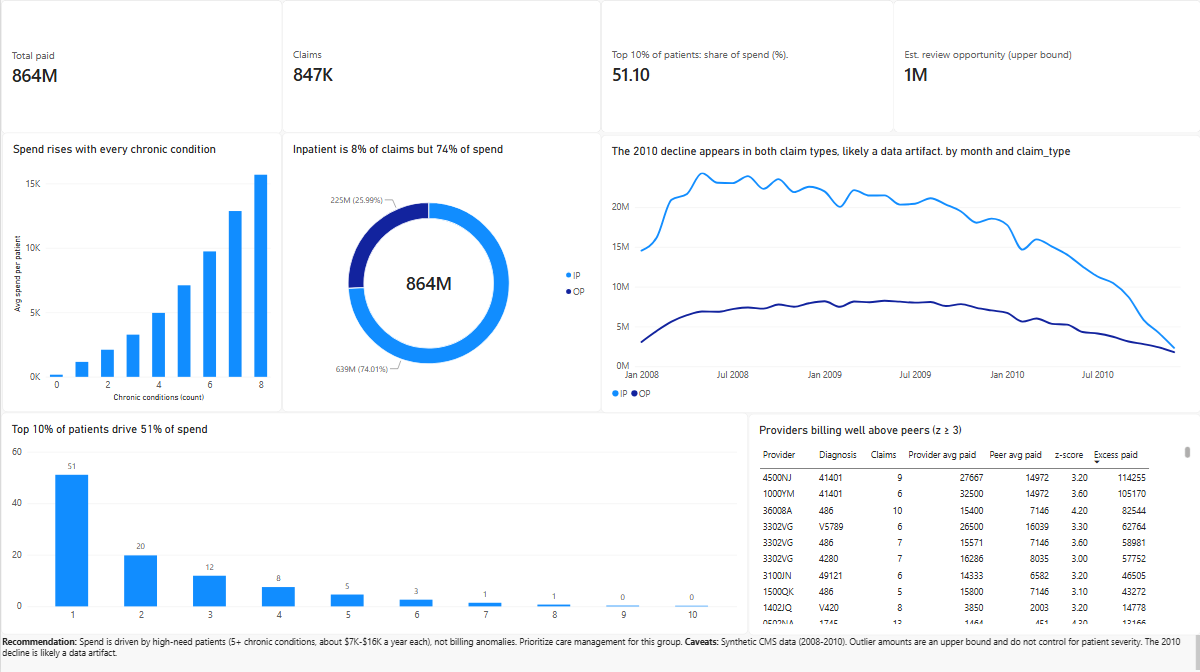

The page's visual inventory and layout, read from the dashboard file:
{"tool":"powerbi","page":{"name":"Page 1","canvas":[1920,1080],"ordinal":0},"visuals":[{"type":"clusteredColumnChart","title":"Top 10% of patients drive 51% of spend","fields":{"Category":["spend_deciles.decile"],"Y":["Sum(spend_deciles.pct_of_total)"]},"box":[0,660,1195,355],"z":0},{"type":"cardVisual","fields":{"Data":["Sum(spend_deciles.pct_of_total)"]},"box":[960,0,468,212],"z":1000},{"type":"cardVisual","fields":{"Data":["Sum(claim_types.total_paid)"]},"box":[0,0,450,214],"z":2000},{"type":"cardVisual","fields":{"Data":["Sum(claim_types.claims)"]},"box":[450,0,510,212.5],"z":3000},{"type":"columnChart","title":"Spend rises with every chronic condition","fields":{"Category":["chronic_conditions.n_cond"],"Y":["Sum(chronic_conditions.avg_spend)"]},"box":[2.9,212.9,447.1,447.1],"z":4000},{"type":"donutChart","title":"Inpatient is 8% of claims but 74% of spend","fields":{"Category":["claim_types.claim_type"],"Y":["Sum(claim_types.total_paid)"]},"box":[450,212.9,510,447.1],"z":5000},{"type":"lineChart","fields":{"Category":["monthly_trend.month"],"Series":["monthly_trend.claim_type"],"Y":["Sum(monthly_trend.total_paid)"]},"box":[960,215,960,445],"z":6000},{"type":"tableEx","title":"Providers billing well above peers (z ≥ 3)","fields":{"Values":["provider_outliers.provider_id","provider_outliers.diagnosis","Sum(provider_outliers.claims)","provider_outliers.prov_avg","provider_outliers.peer_avg","provider_outliers.z","Sum(provider_outliers.excess_paid)"]},"box":[1196,662,724,354],"z":7000},{"type":"textbox","box":[2.5,1015,1917.5,65],"z":8000},{"type":"cardVisual","title":"Est. review opportunity (upper bound)","fields":{"Data":["Sum(provider_outliers.excess_paid)"]},"box":[1428,0,492,212],"z":9000}]}

Visuals, with their boxes in screenshot pixels (x1, y1, x2, y2), scaled from the page's 1920x1080 canvas onto the 1200x672 screenshot:
"Top 10% of patients drive 51% of spend" clusteredColumnChart: 0,411,747,632
cardVisual - Sum(spend_deciles.pct_of_total): 600,0,892,132
cardVisual - Sum(claim_types.total_paid): 0,0,281,133
cardVisual - Sum(claim_types.claims): 281,0,600,132
"Spend rises with every chronic condition" columnChart: 2,132,281,411
"Inpatient is 8% of claims but 74% of spend" donutChart: 281,132,600,411
lineChart - monthly_trend.month x monthly_trend.claim_type: 600,134,1199,411
"Providers billing well above peers (z ≥ 3)" tableEx: 748,412,1199,632
textbox: 2,632,1199,671
"Est. review opportunity (upper bound)" cardVisual: 892,0,1199,132
